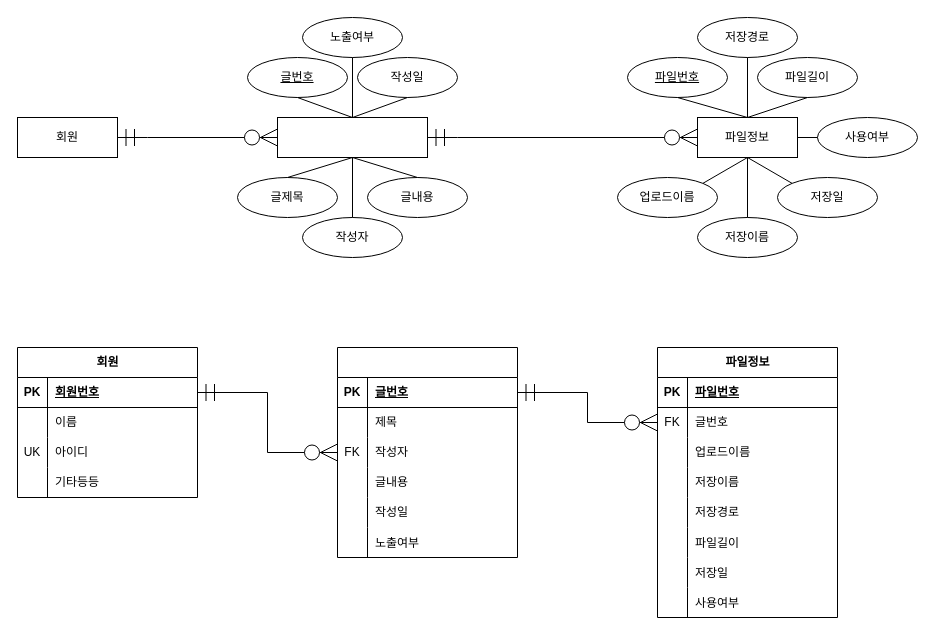
The diagram is 935 pixels wide and 635 high, and some of its shapes have lost their labels. Each missing label, with the box of its shape:
이미지 업로드 게시판: (276, 116, 428, 158)
파일 게시판: (336, 346, 518, 558)
